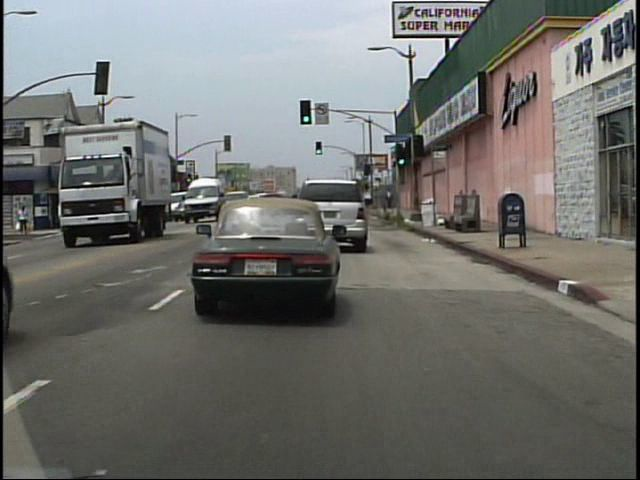person: (20, 206, 31, 236), (386, 188, 395, 210)
